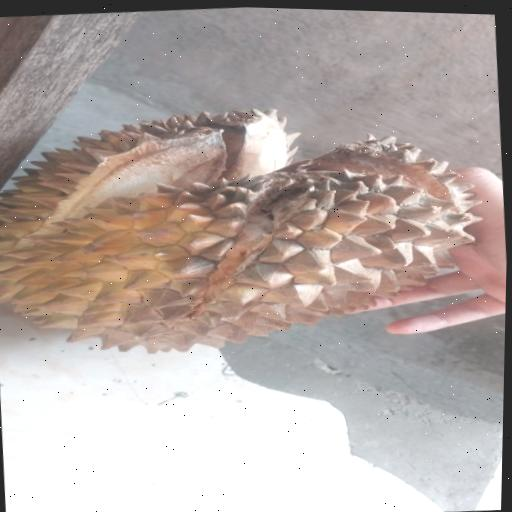rot: (0, 66, 511, 385)
